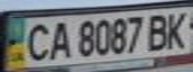0: (93, 16, 112, 56)
7: (124, 12, 148, 53)
8: (72, 17, 96, 57), (109, 15, 130, 55)
A: (45, 18, 72, 61)
B: (145, 11, 172, 52)
C: (18, 19, 54, 63)
K: (163, 8, 193, 51)
